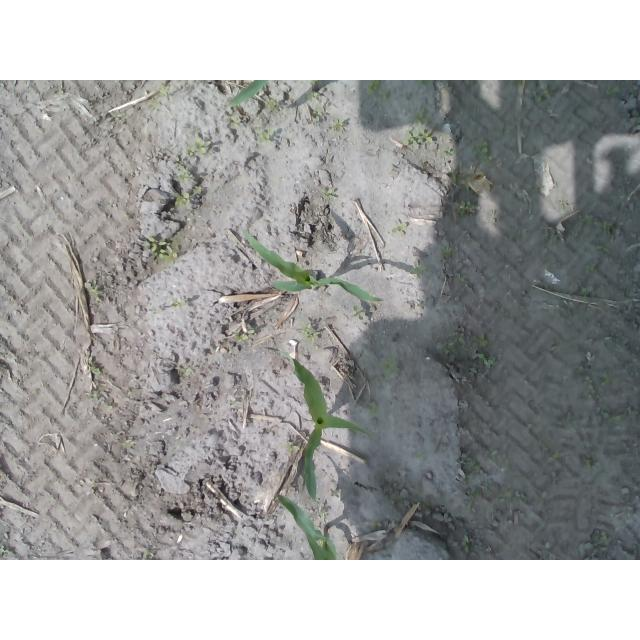Maize: (289, 356, 371, 502), (242, 232, 383, 305), (275, 494, 337, 560), (223, 80, 270, 110)
Weeds: (576, 366, 626, 426), (561, 199, 620, 238), (441, 333, 495, 368), (404, 107, 433, 145), (144, 236, 180, 260), (473, 137, 499, 168), (382, 358, 403, 382), (593, 532, 610, 561), (187, 136, 209, 158), (367, 81, 390, 101), (454, 198, 482, 214), (232, 325, 252, 343), (304, 327, 321, 344), (255, 128, 273, 144), (167, 297, 185, 312), (366, 399, 380, 417), (595, 242, 613, 255), (462, 531, 472, 554), (173, 193, 188, 208), (453, 273, 468, 287), (320, 188, 336, 201), (577, 285, 595, 296), (88, 281, 101, 296), (582, 456, 594, 472), (442, 147, 459, 158), (265, 97, 279, 110), (176, 171, 192, 182), (89, 365, 104, 376), (369, 521, 384, 532), (311, 109, 321, 124), (440, 247, 455, 257), (388, 224, 400, 236), (229, 115, 239, 129), (333, 119, 344, 131), (286, 442, 296, 455), (158, 86, 169, 97), (179, 368, 192, 377), (121, 439, 132, 449), (353, 306, 362, 318), (416, 80, 433, 86), (0, 543, 4, 553)
